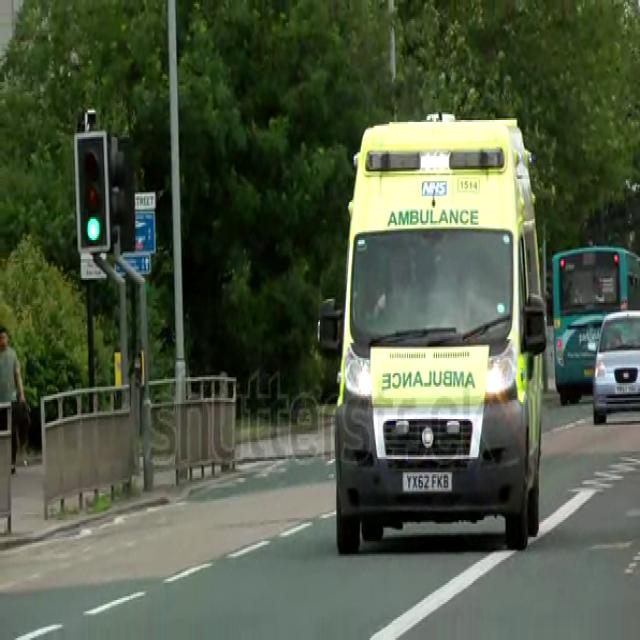ambulance: (314, 111, 548, 556)
